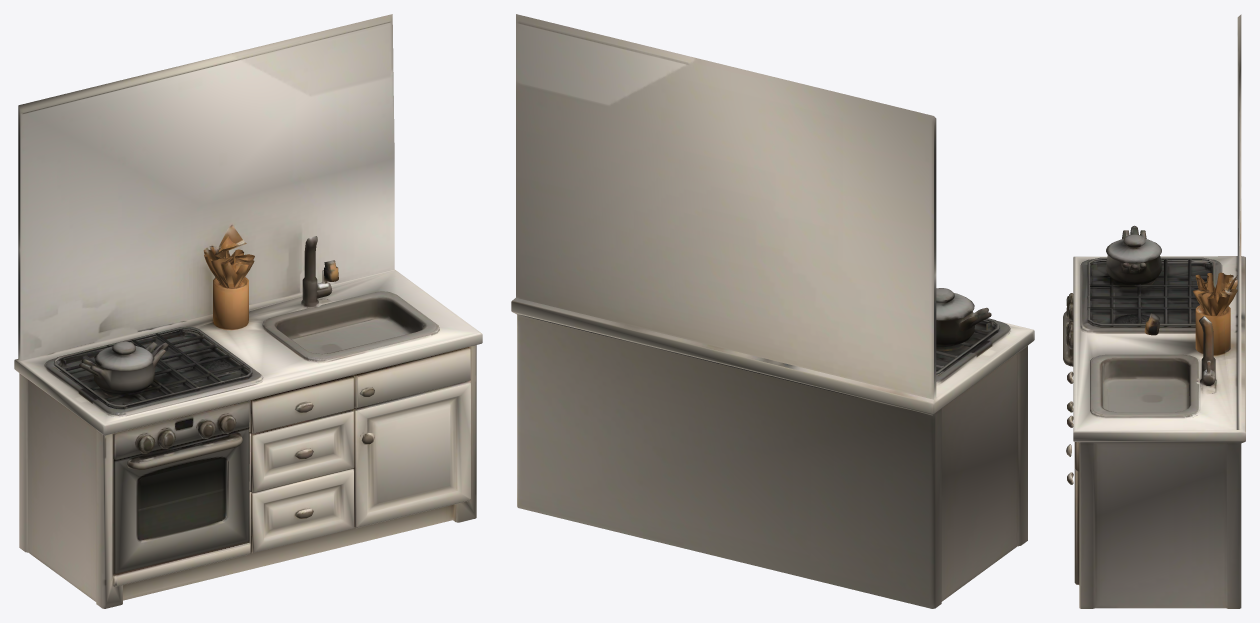
Rendered from Furniture__kitchen_cabinet_everyday_realistic_style_8368dfee_v4.cluster.glb.
3 views of the same model, side by side, from view 1: azimuth 30°, elevation 25°; view 2: azimuth 150°, elevation 25°; view 3: azimuth 270°, elevation 25° (orthographic). The views are drawn at different scales.
Parts seen in each view (by area): view 1: mesh_input; view 2: mesh_input; view 3: mesh_input.
Part boxes in pixels (x1,y1,x2,y2): mesh_input: (14, 14, 482, 608); mesh_input: (511, 14, 1034, 608); mesh_input: (1063, 14, 1245, 608).
Size of the model in its own units: 1.67 by 1.86 by 0.7325.
1 material, 1 textured.
